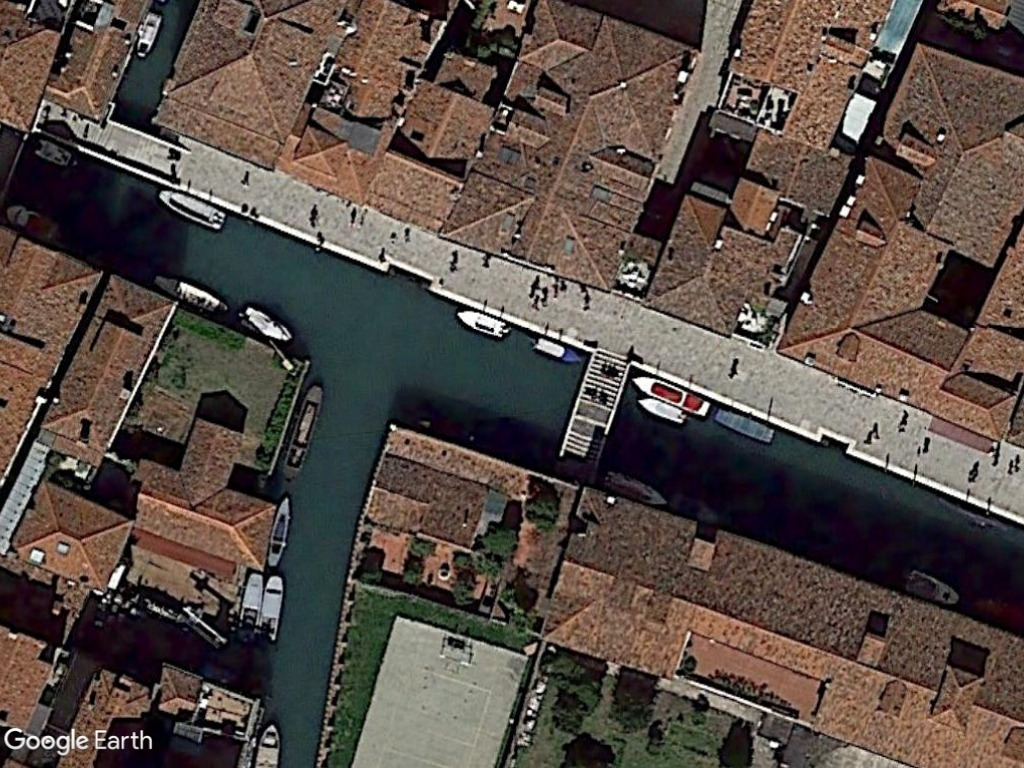boat: (278, 379, 325, 481), (627, 368, 713, 421), (151, 271, 238, 320), (151, 185, 230, 235), (2, 203, 70, 248), (260, 490, 296, 570), (897, 567, 965, 609), (233, 303, 298, 346), (254, 573, 285, 649), (450, 306, 513, 343), (633, 393, 690, 432), (130, 8, 166, 61)
